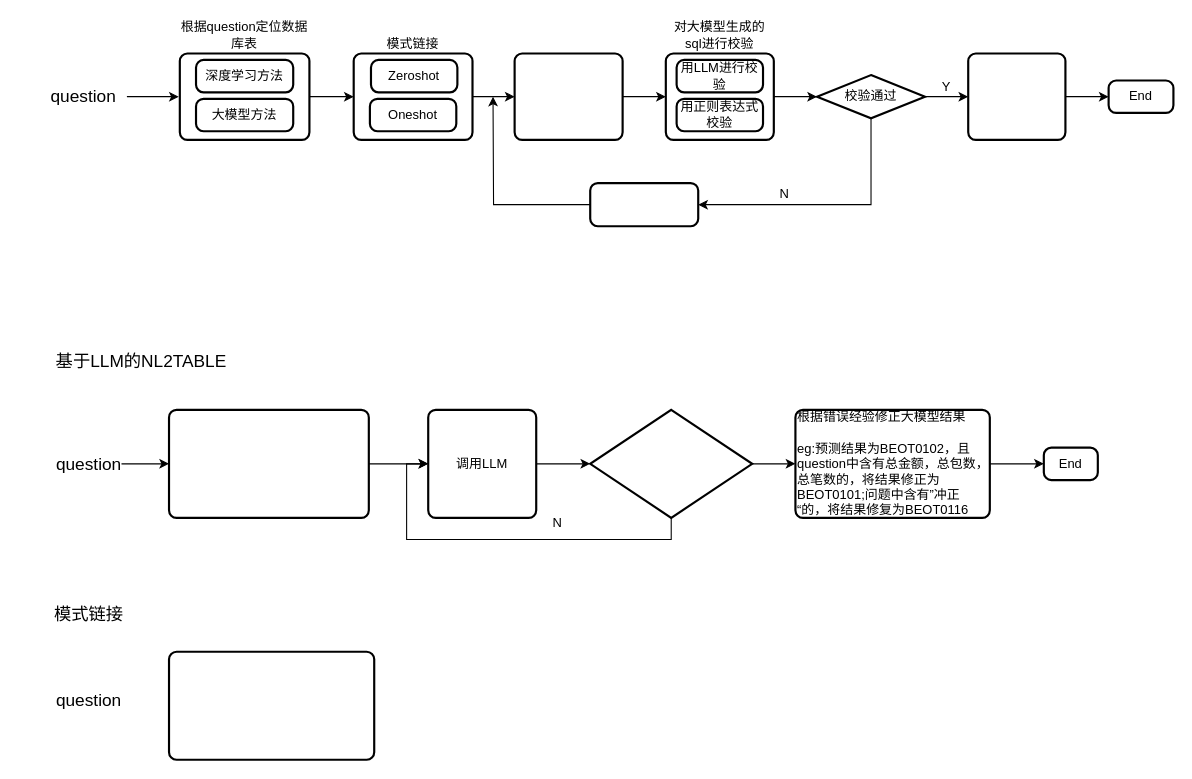
Image size: 1192x779. Some labels were removed from this diagram. Each missing label, with the centre of its shape:
"LLM返回结果是否符合#AAAA2222#的形式？" belongs at pixel 671 463.
"动态构建Prompt 根据question中的关键字，初步划分为大额、小额、止付、网银四个类型，每个类型对应几张表 以此缩小搜索范围" belongs at pixel 268 463.
"对sql中的value进行值映射" belongs at pixel 1016 96.
"构建Prompt，调用大模型" belongs at pixel 568 96.
"根据校验结果修正Prompt" belongs at pixel 644 204.
